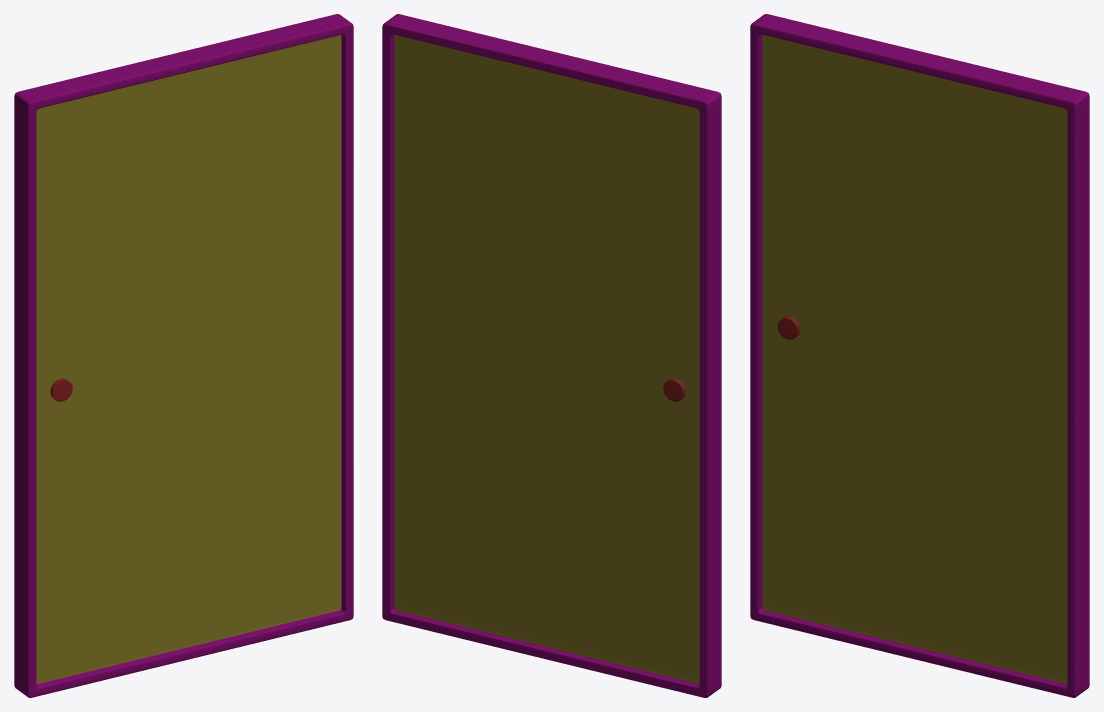
The model's file is Door.fbx.
The picture shows the model from 3 angles, left to right: view 1: azimuth 30°, elevation 25°; view 2: azimuth 150°, elevation 25°; view 3: azimuth 330°, elevation 25°; orthographic projection.
Visible parts, largest first — view 1: MainDoor (×2); view 2: MainDoor (×2); view 3: MainDoor (×2).
Part boxes in pixels (<box>): MainDoor (×2): <box>14,14,353,697</box>; MainDoor (×2): <box>382,14,721,697</box>; MainDoor (×2): <box>750,14,1089,697</box>.
Size of the model in its own units: 4 by 7 by 0.3.
